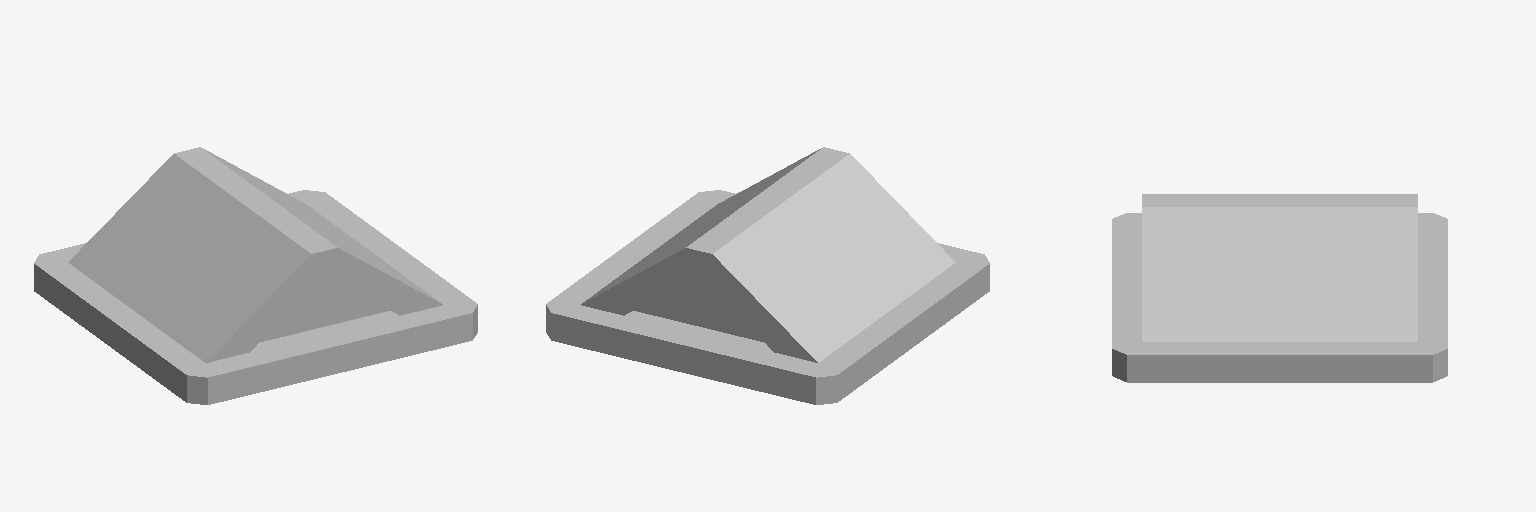
Rendered from cryptSmallRoof.obj.
3 renders of one model, left to right at view 1: azimuth 30°, elevation 25°; view 2: azimuth 150°, elevation 25°; view 3: azimuth 270°, elevation 25°, orthographic.
Visible parts, largest first — view 1: cryptSmallRoof; view 2: cryptSmallRoof; view 3: cryptSmallRoof.
Boxes of the visible parts, <box> form: cryptSmallRoof: <box>34,147,477,404</box>; cryptSmallRoof: <box>546,147,989,404</box>; cryptSmallRoof: <box>1112,194,1447,382</box>.
Size of the model in its own units: 1.1 by 0.4 by 1.1.